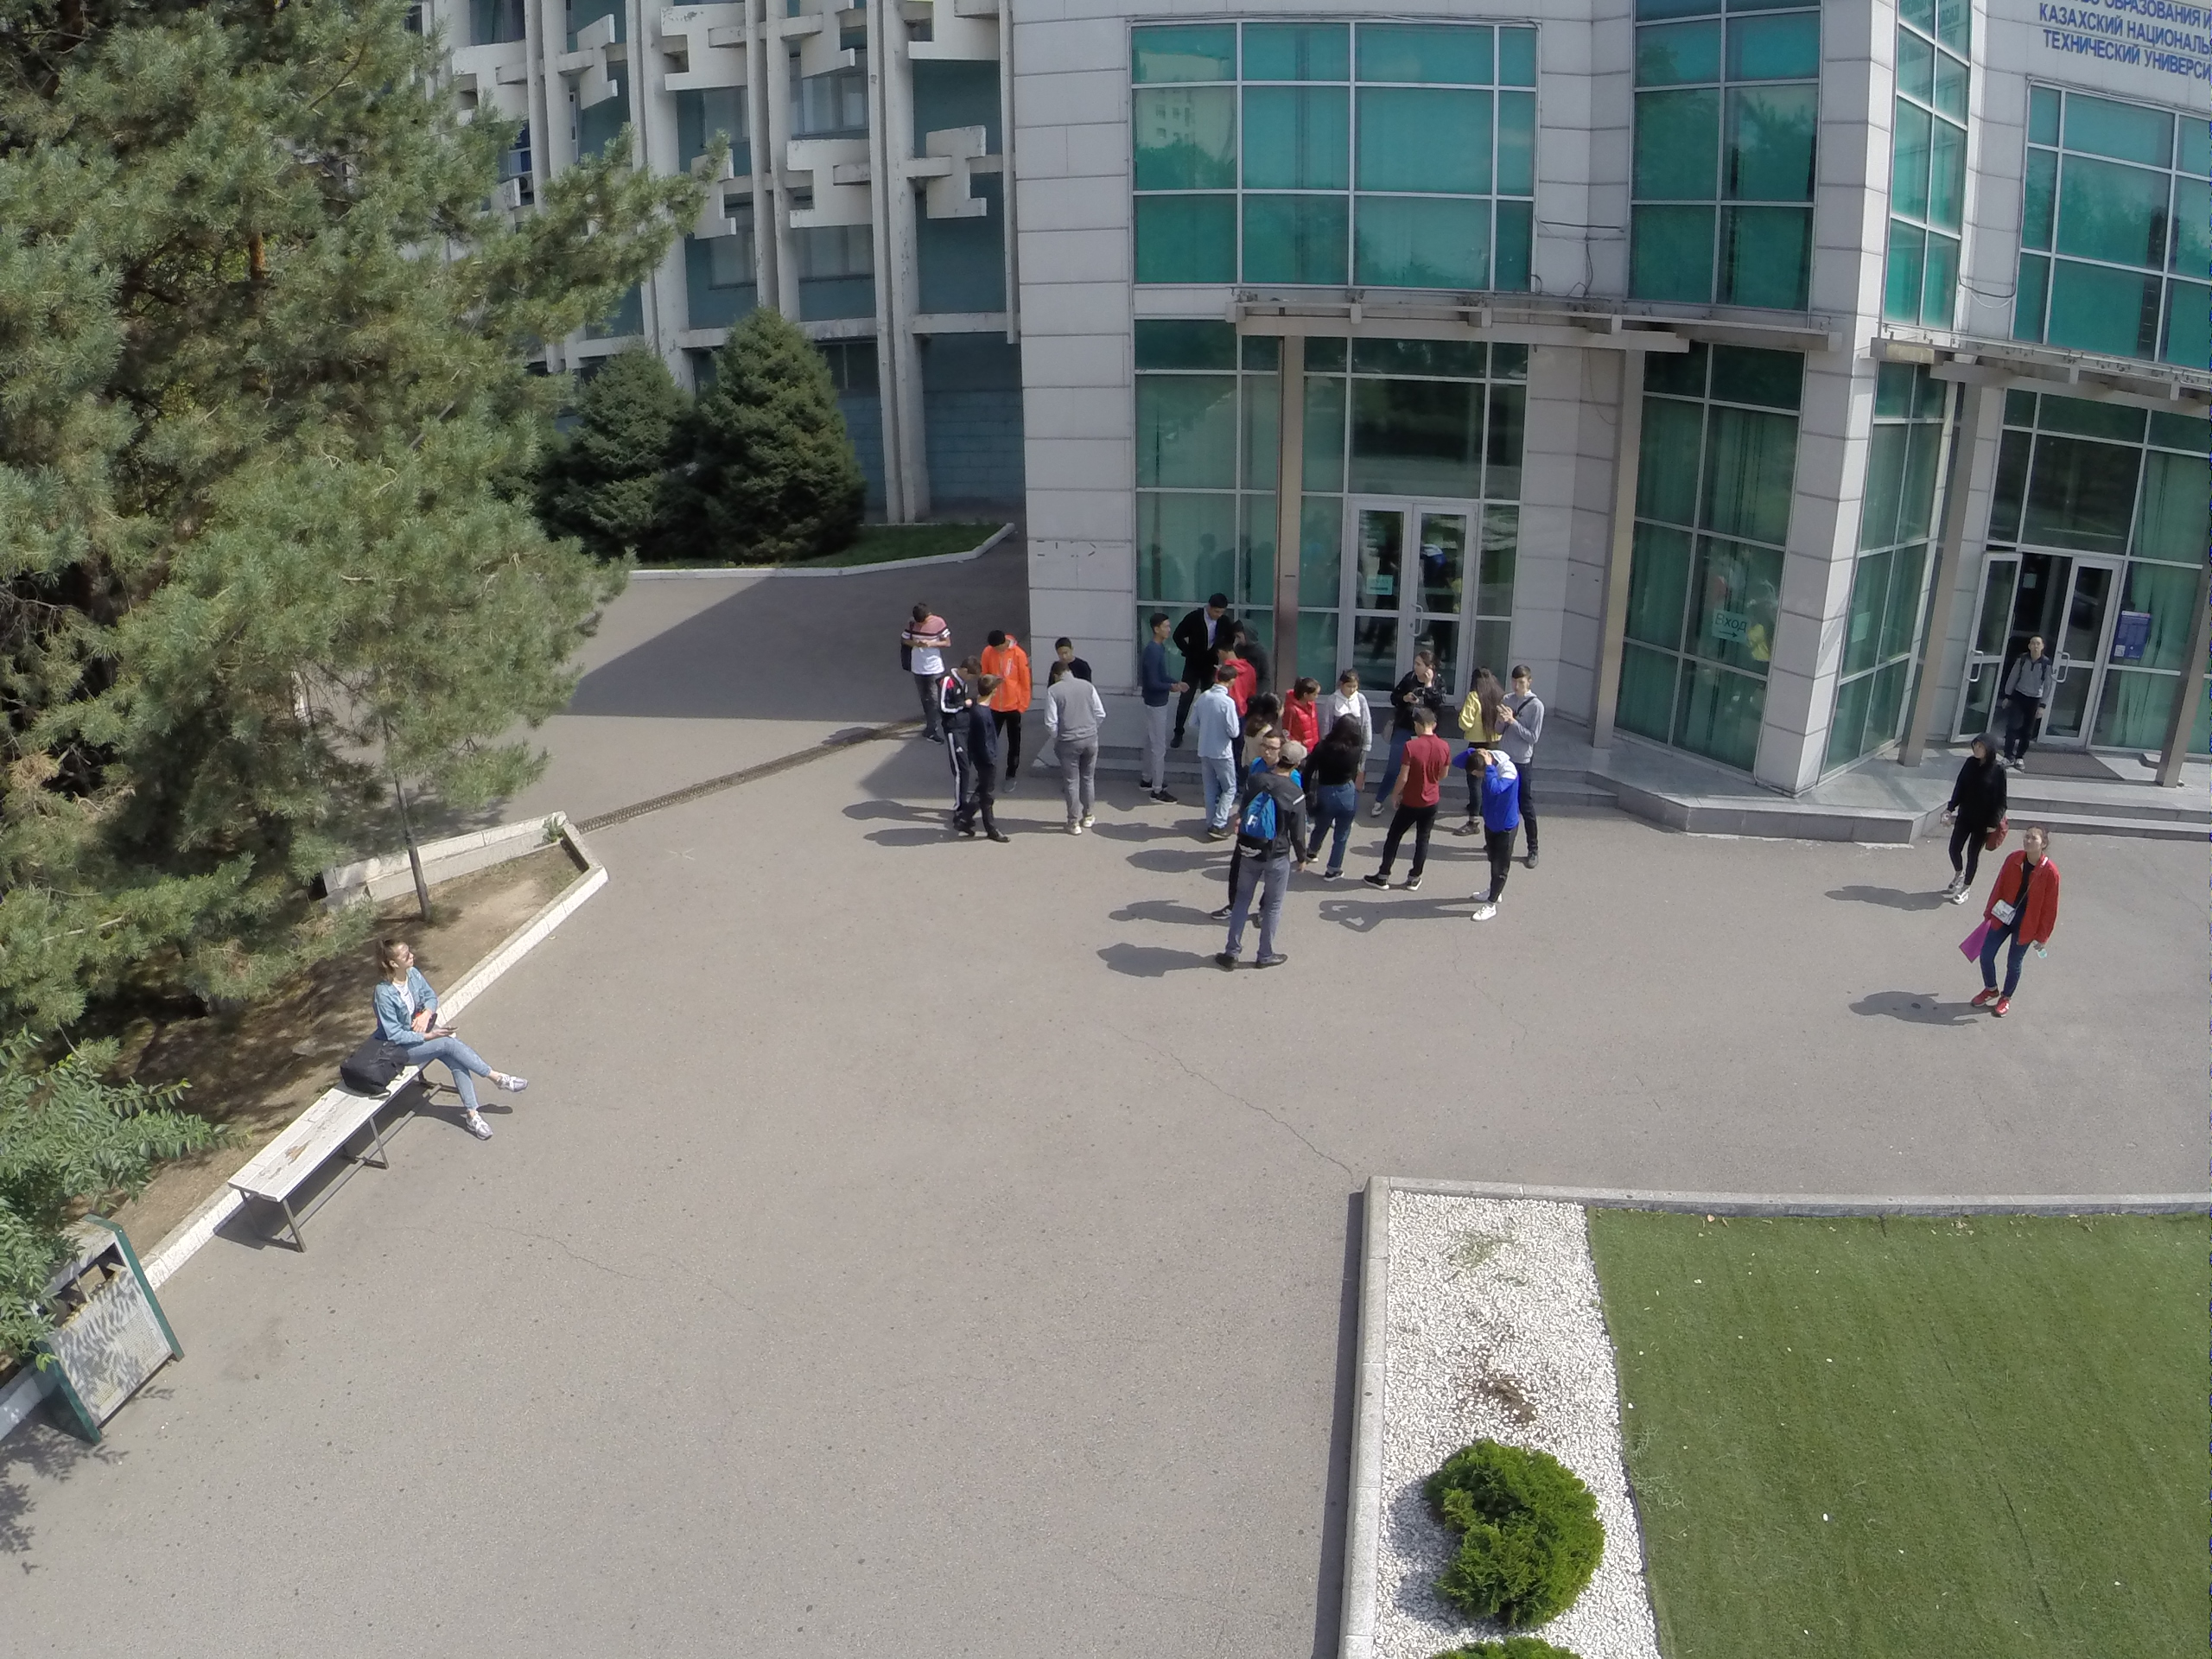person: (372, 938, 526, 1148), (1210, 740, 1306, 976), (1966, 818, 2064, 1020), (1939, 721, 2012, 906), (1374, 706, 1443, 902), (1462, 746, 1522, 928), (1049, 661, 1104, 851), (960, 673, 1010, 849), (2000, 629, 2058, 772), (1505, 672, 1545, 874), (984, 627, 1032, 794), (1193, 669, 1236, 840), (1312, 721, 1356, 879), (900, 601, 944, 747), (941, 654, 972, 822), (1181, 585, 1222, 712), (1147, 616, 1172, 808), (1397, 651, 1447, 714), (1287, 677, 1321, 734), (1329, 675, 1364, 717)
